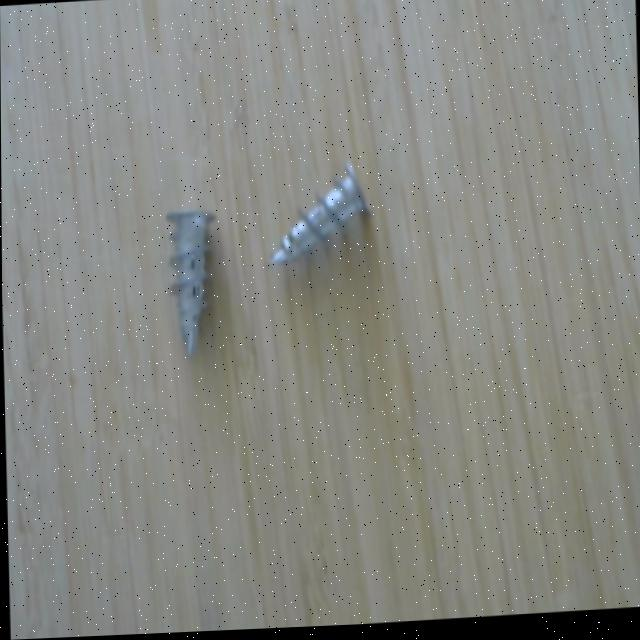Short screw: (257, 154, 382, 286), (159, 200, 227, 372)
